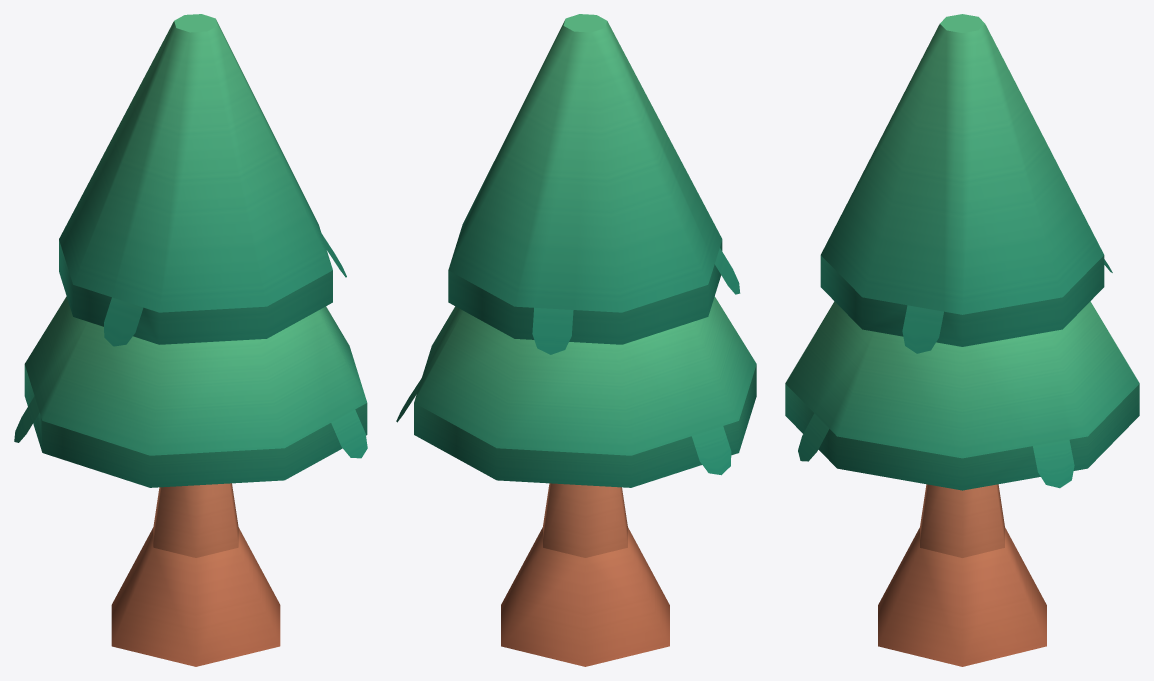
File: tree-small.obj
3 views of the same model, side by side, from view 1: azimuth 30°, elevation 25°; view 2: azimuth 150°, elevation 25°; view 3: azimuth 270°, elevation 25° (orthographic).
Visible parts, largest first — view 1: tree-small; view 2: tree-small; view 3: tree-small.
Part boxes in pixels (bbox=[...]): tree-small: bbox=[14, 14, 367, 666]; tree-small: bbox=[396, 14, 756, 666]; tree-small: bbox=[785, 14, 1139, 666].
Size of the model in its own units: 0.7381 by 1.35 by 0.72.
Materials: 1 (1 with a texture image).
